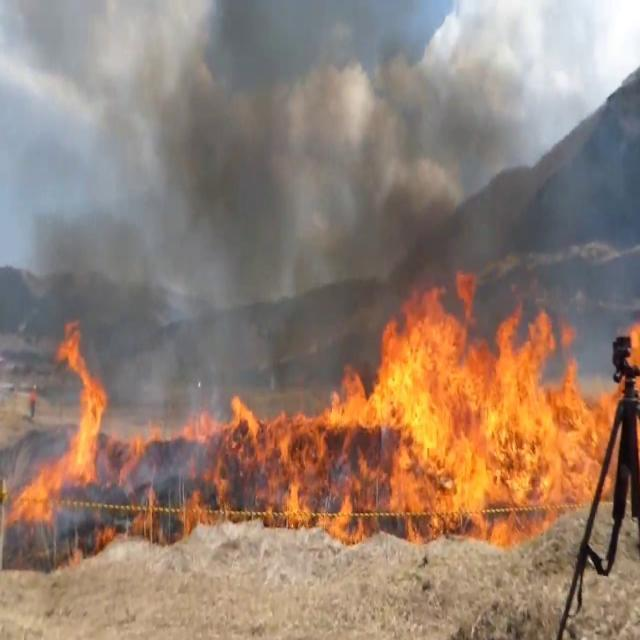Fire: (353, 257, 625, 542), (120, 358, 362, 545), (11, 320, 114, 530)
Smoke: (4, 0, 546, 382)
